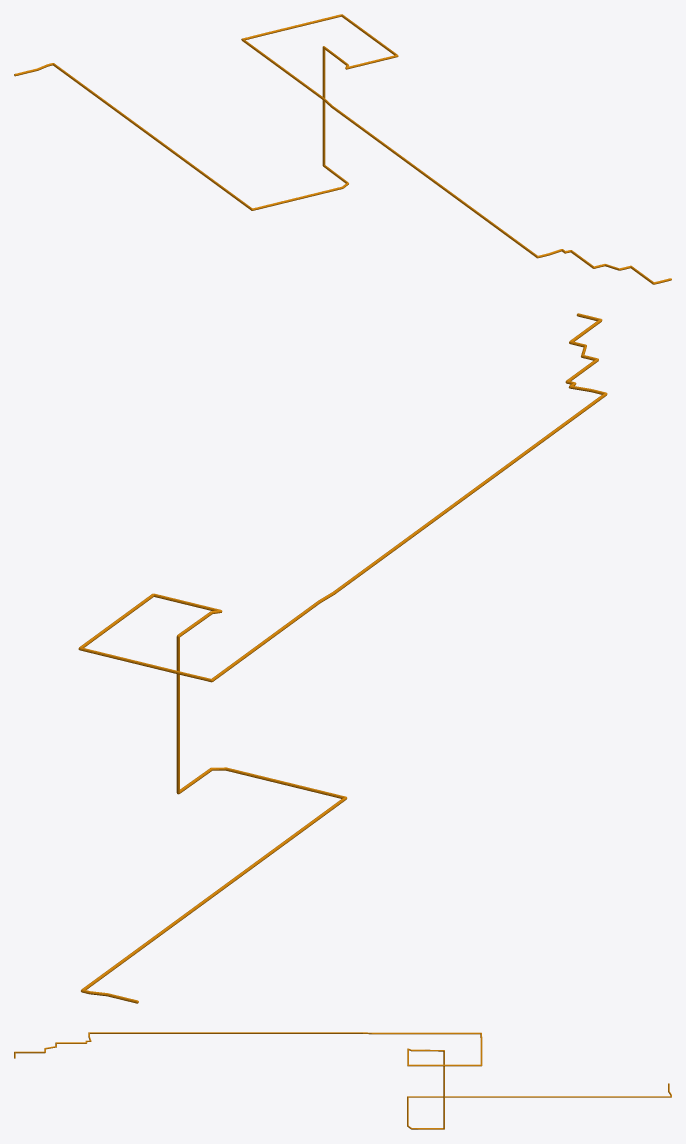
The picture shows the model from 3 angles, top to bottom: view 1: azimuth 30°, elevation 25°; view 2: azimuth 150°, elevation 25°; view 3: azimuth 270°, elevation 25°; orthographic projection. The views are drawn at different scales.
Size of the model in its own units: 1656 by 1020 by 7624.
